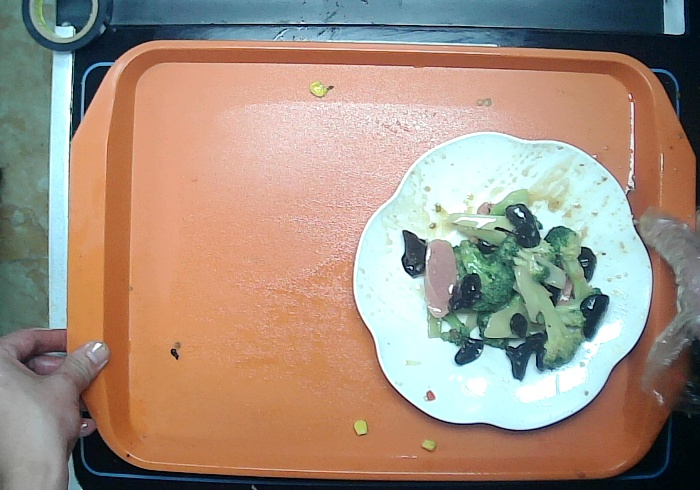HZYJPL-Bai_Se_Hua_Duo_Wan: (351, 130, 655, 432)
